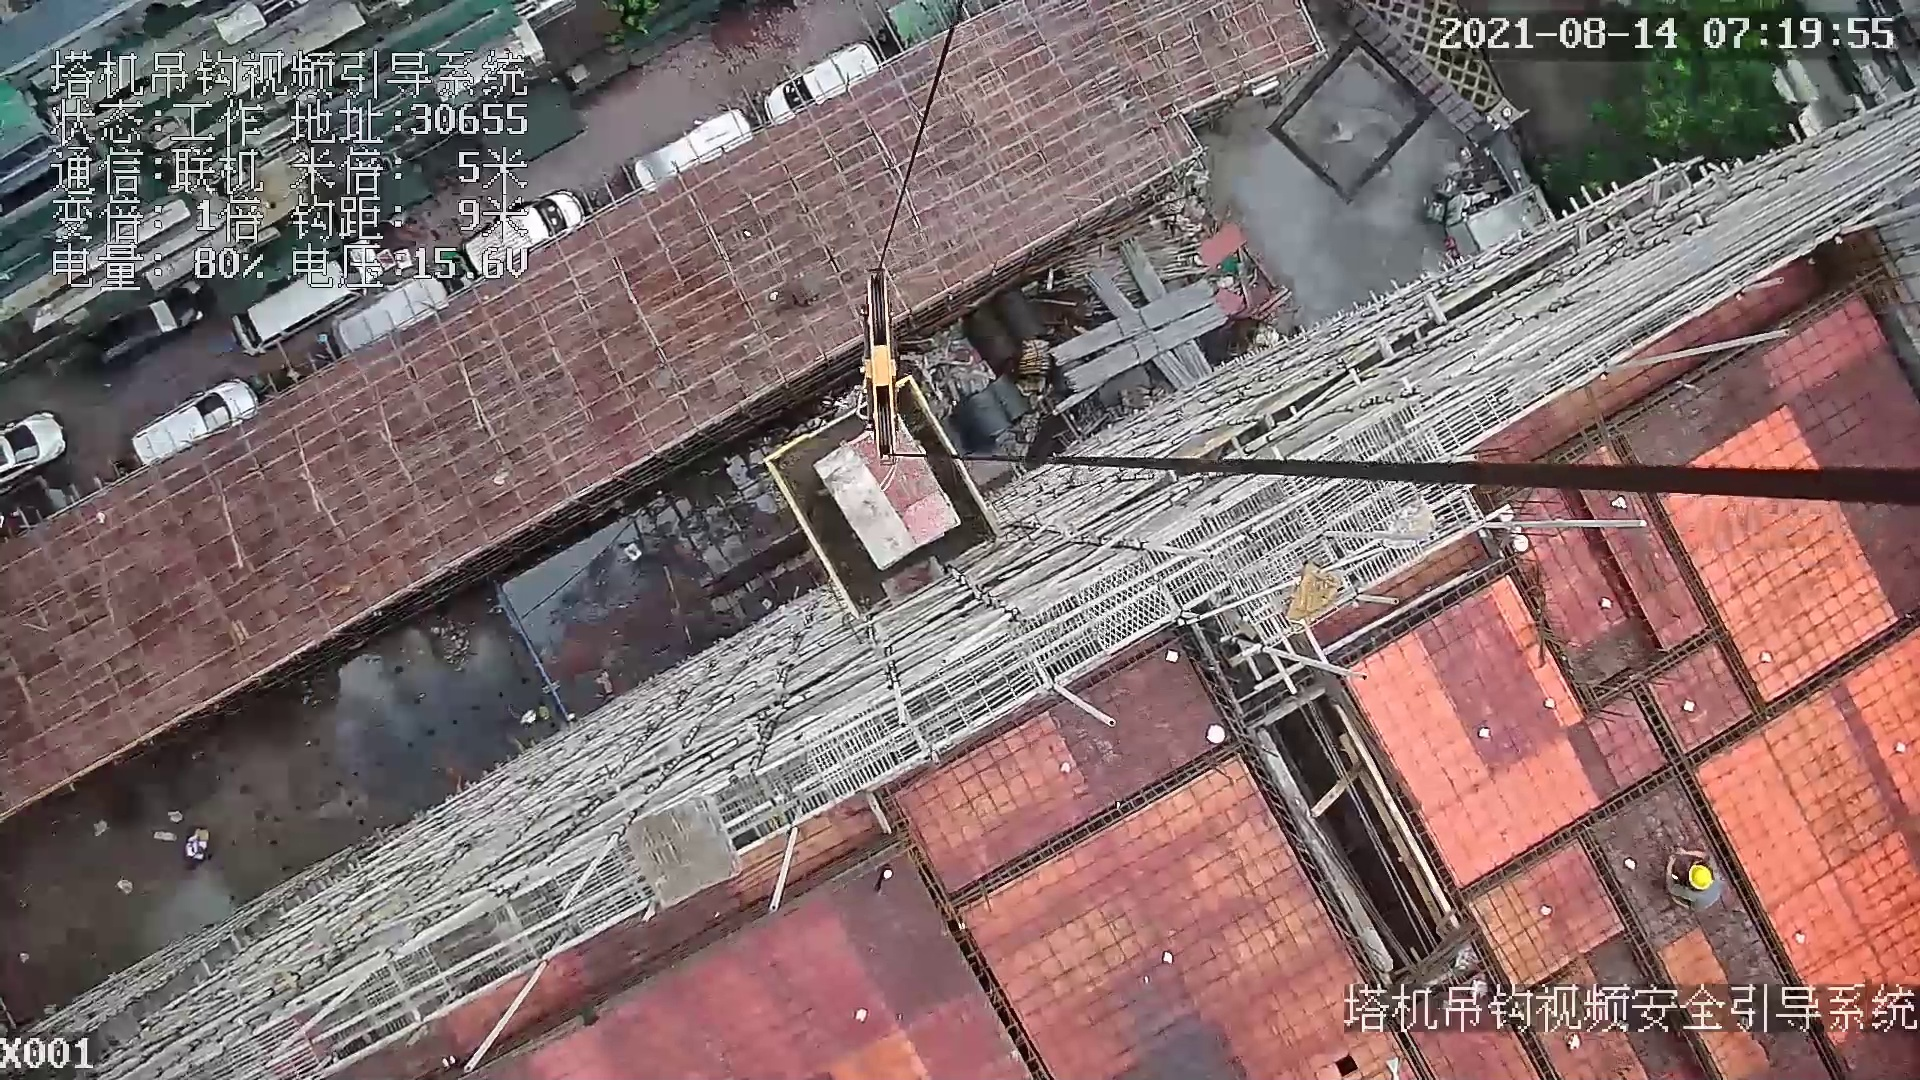helmet: (1683, 859, 1718, 895)
hook: (855, 260, 899, 471)
person: (1667, 845, 1735, 935)
